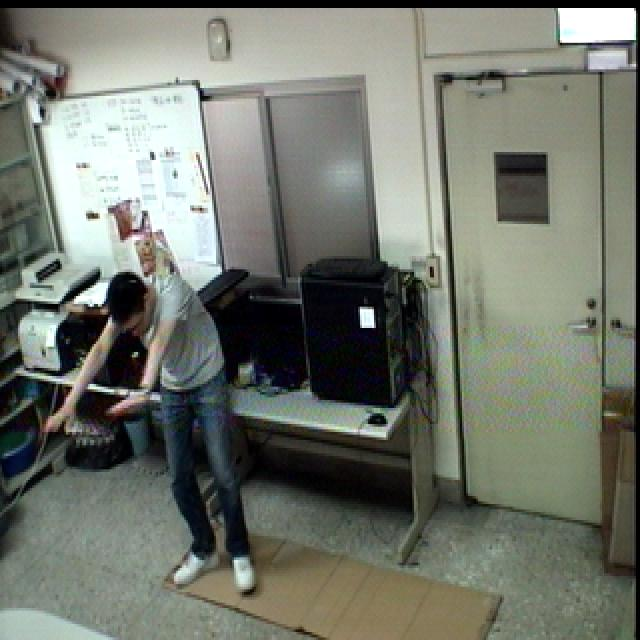bend: (36, 267, 269, 609)
